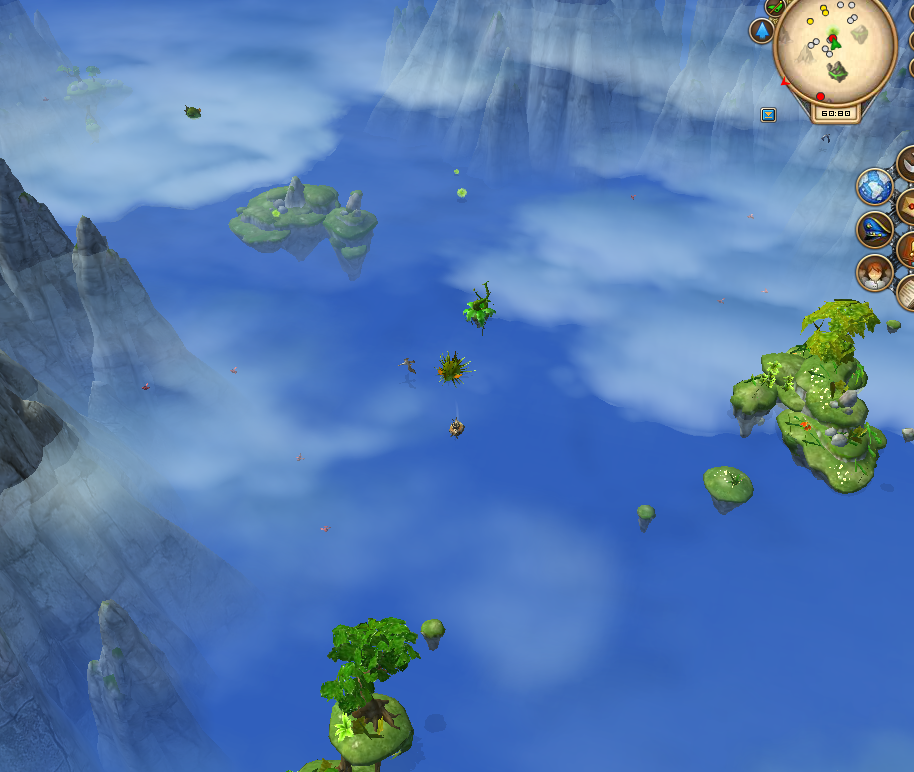dandelion-empty: (458, 275, 502, 332)
fluff: (453, 183, 469, 201), (269, 207, 282, 220), (450, 166, 461, 178)
